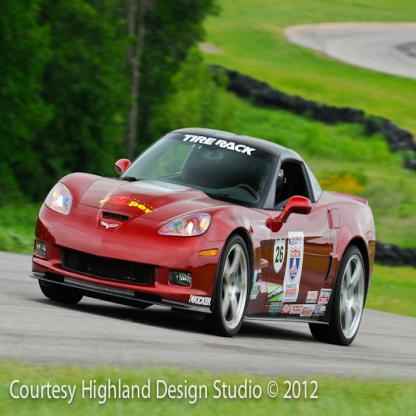Vehicle: (28, 121, 379, 351)
